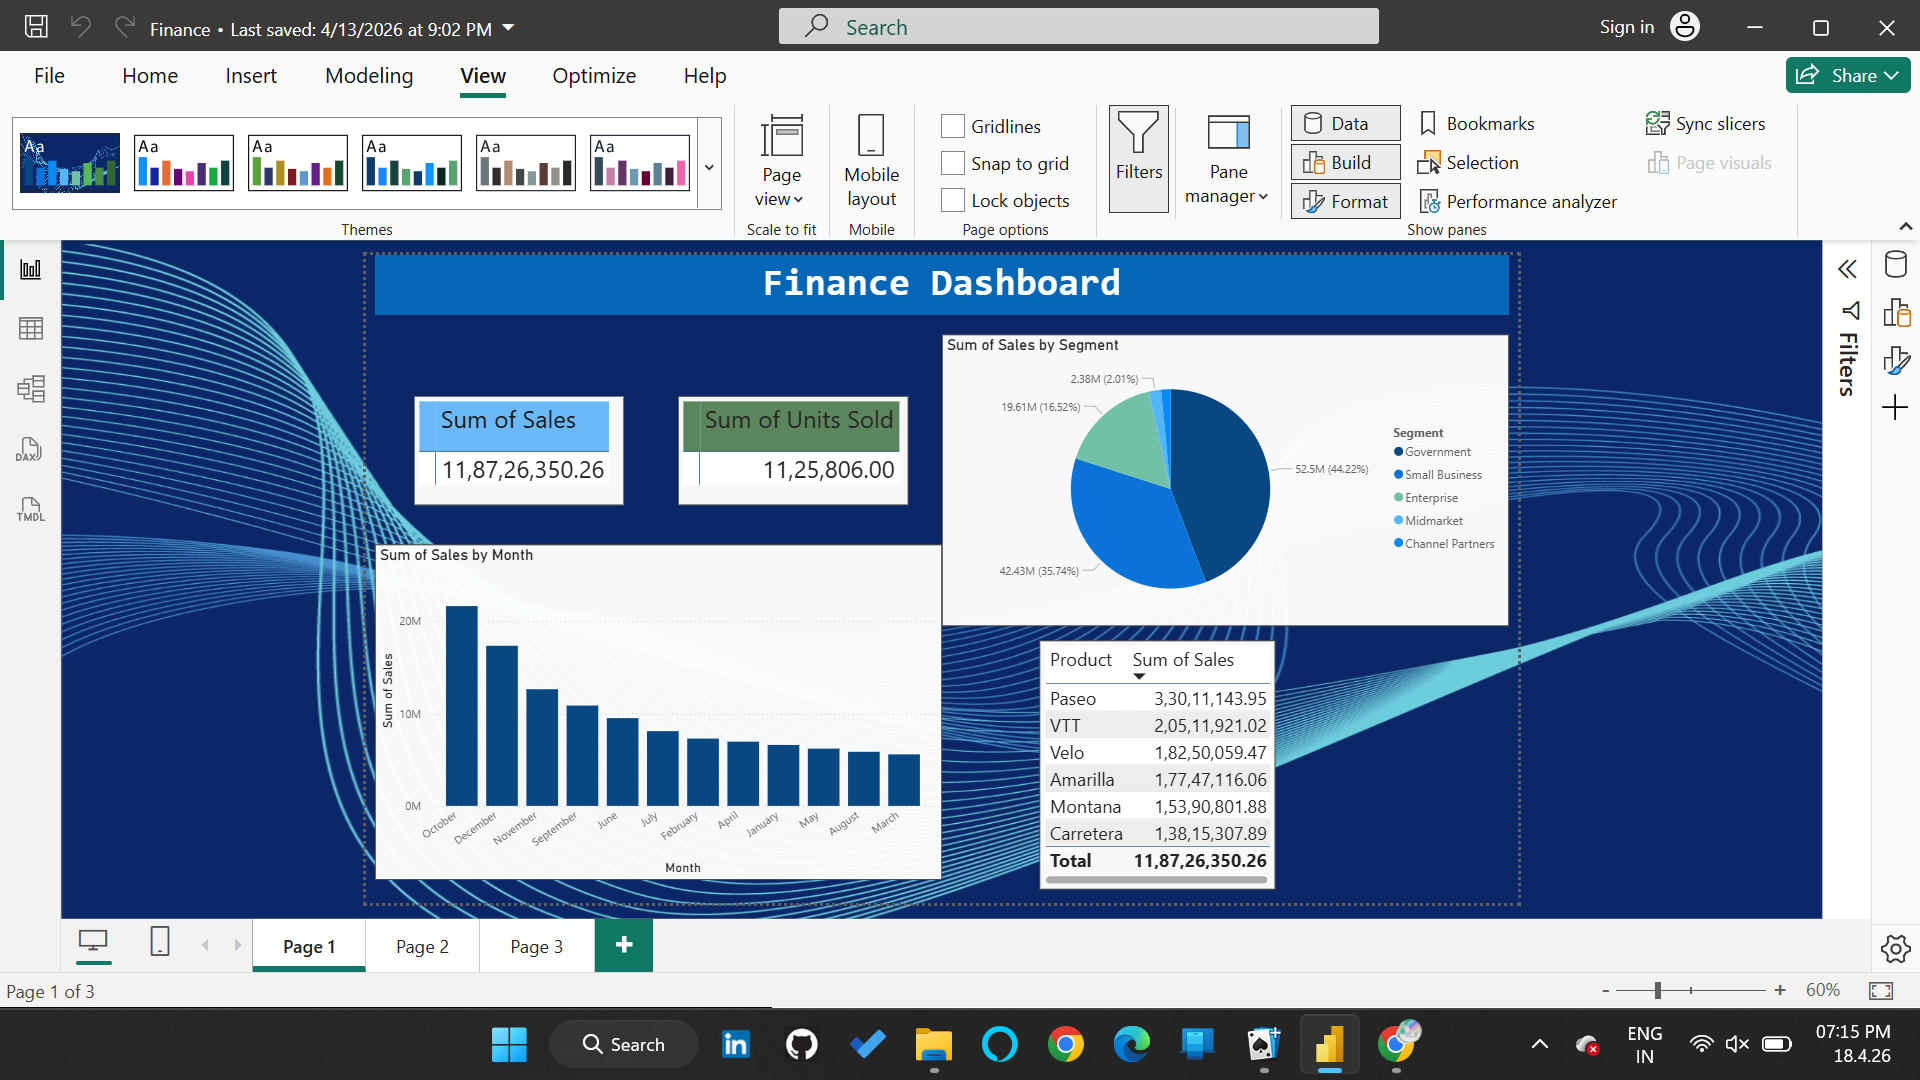

The dashboard page shown, as its layout file describes it:
{"tool":"powerbi","page":{"name":"Page 1","canvas":[1280,720],"ordinal":0},"visuals":[{"type":"textbox","box":[9.7,0,1259.8,66.4],"z":0},{"type":"pivotTable","fields":{"Values":["Sum(Sheet1. Sales)"]},"box":[53.4,157.1,233.2,121.4],"z":1000},{"type":"pivotTable","fields":{"Values":["Sum(Sheet1.Units Sold)"]},"box":[346.5,157.1,255.8,121.4],"z":2000},{"type":"clusteredColumnChart","fields":{"Category":["Sheet1.Date.Variation.Date Hierarchy.Year","Sheet1.Date.Variation.Date Hierarchy.Quarter","Sheet1.Date.Variation.Date Hierarchy.Month","Sheet1.Date.Variation.Date Hierarchy.Day"],"Y":["Sum(Sheet1. Sales)"]},"box":[9.7,322.2,629.9,372.4],"z":3000},{"type":"pieChart","fields":{"Category":["Sheet1.Segment"],"Y":["Sum(Sheet1. Sales)"]},"box":[639.6,89.1,629.9,323.8],"z":4000},{"type":"tableEx","fields":{"Values":["Sheet1.Product","Sum(Sheet1. Sales)"]},"box":[748.1,429.1,262.3,276.9],"z":5000}]}

Visuals, with their boxes on the page's 1280x720 design canvas (x1, y1, x2, y2). These are canvas units, not pixel positions in the 1920x1080 screenshot, which may show the page scaled, cropped or inside an application window:
textbox: detection(10, 0, 1270, 66)
pivotTable - Sum(Sheet1. Sales): detection(53, 157, 287, 278)
pivotTable - Sum(Sheet1.Units Sold): detection(346, 157, 602, 278)
clusteredColumnChart - Sheet1.Date.Variation.Date Hierarchy.Year x Sheet1.Date.Variation.Date Hierarchy.Quarter: detection(10, 322, 640, 695)
pieChart - Sheet1.Segment x Sum(Sheet1. Sales): detection(640, 89, 1270, 413)
tableEx - Sheet1.Product x Sum(Sheet1. Sales): detection(748, 429, 1010, 706)
